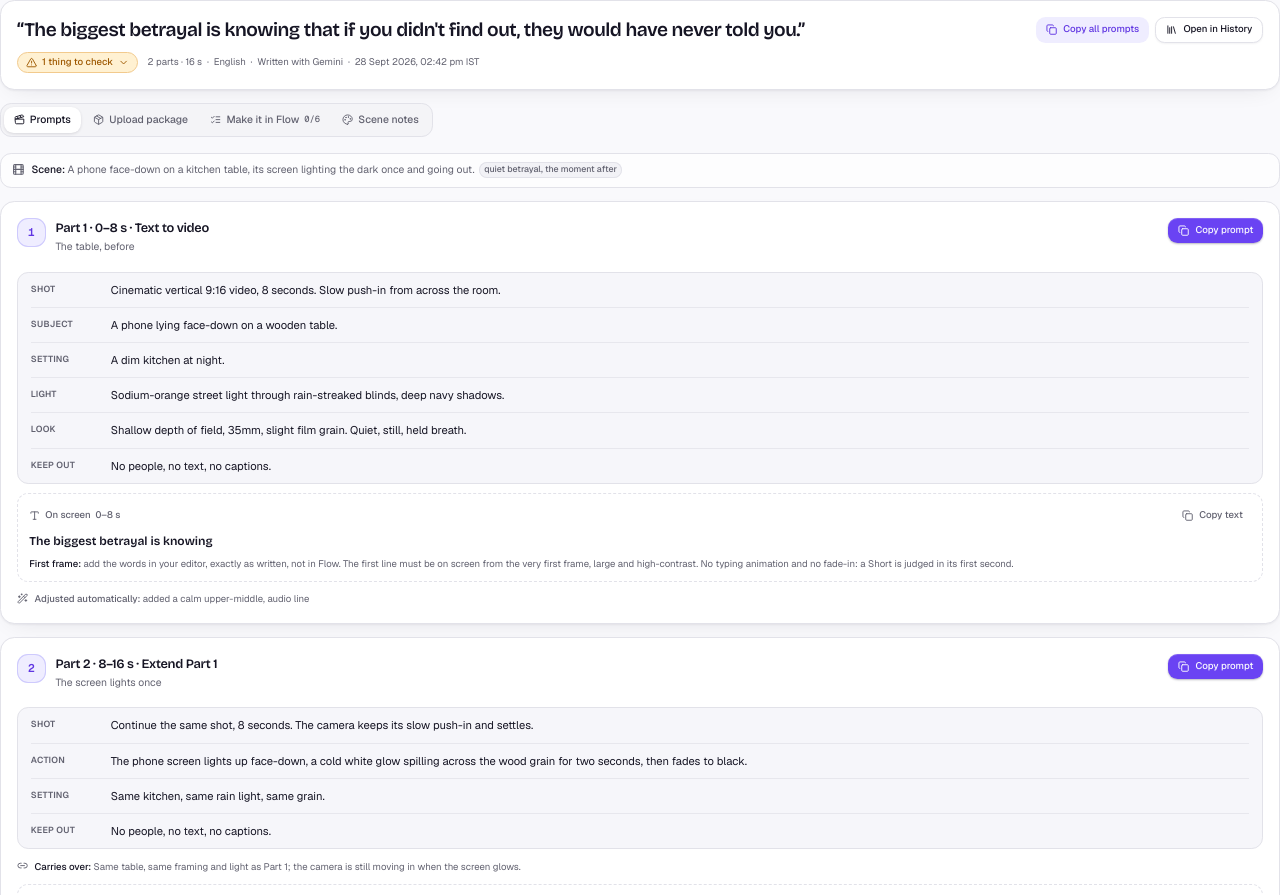
Test: Upload package tab › says when a plan has no package
Click the tab "Upload package": point(141, 120) [84,107,198,132]
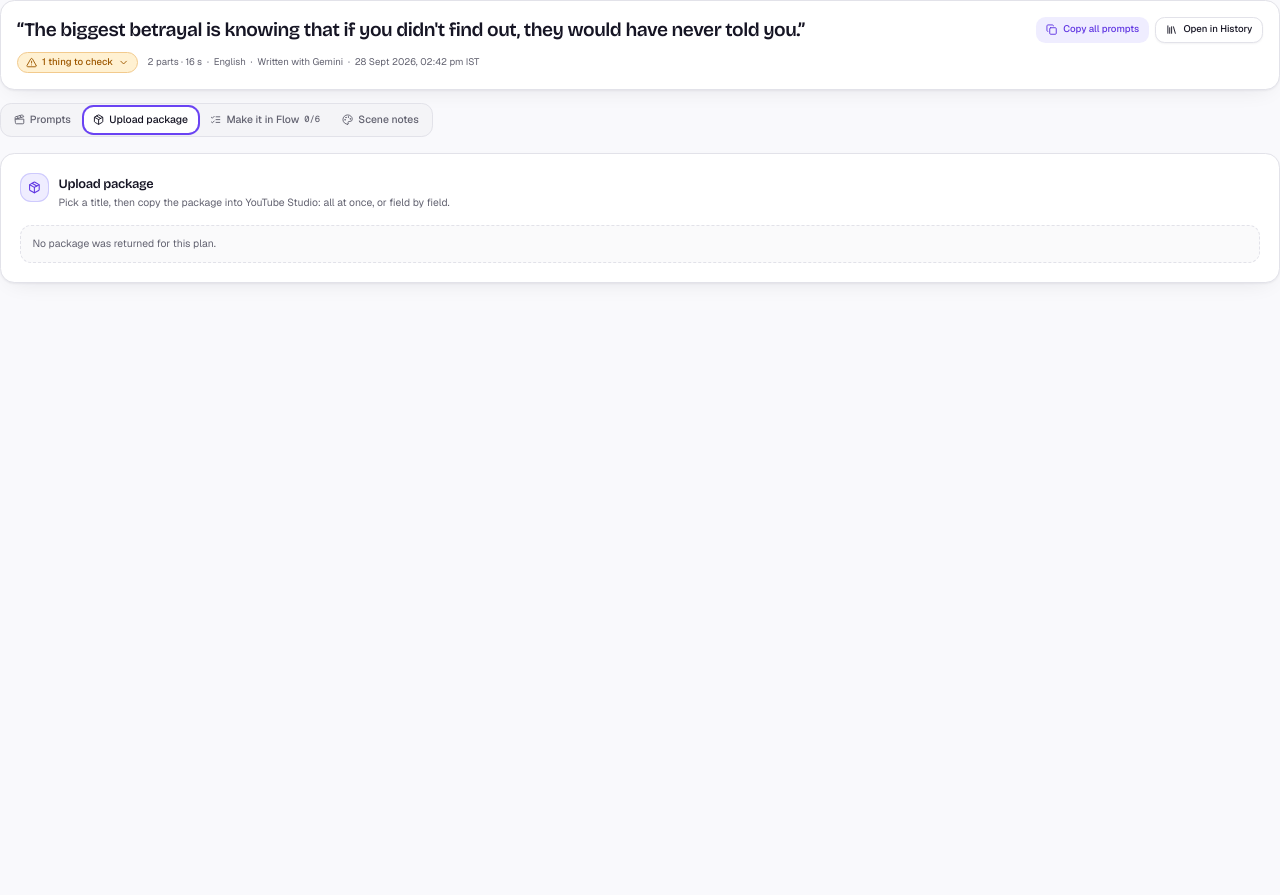
Check: the text "No package was returned for this plan." is shown, box [20,225,1260,263]
